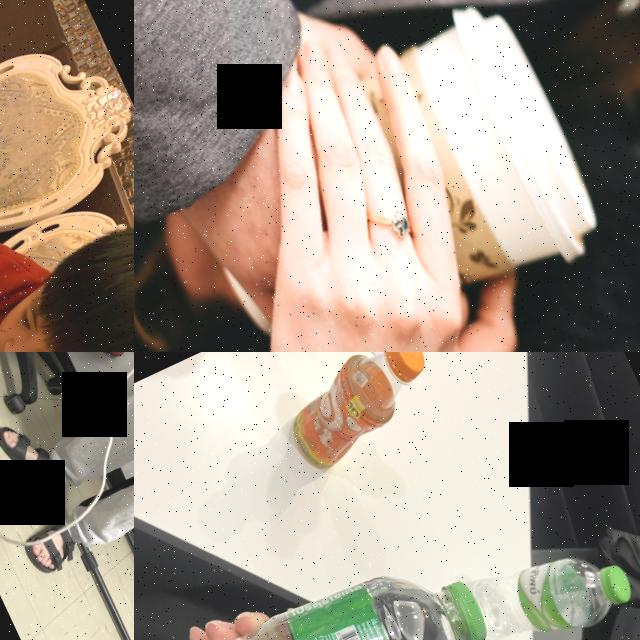bottle: (134, 518, 510, 640), (272, 352, 455, 480), (460, 520, 640, 640)
cup: (158, 0, 619, 352)
